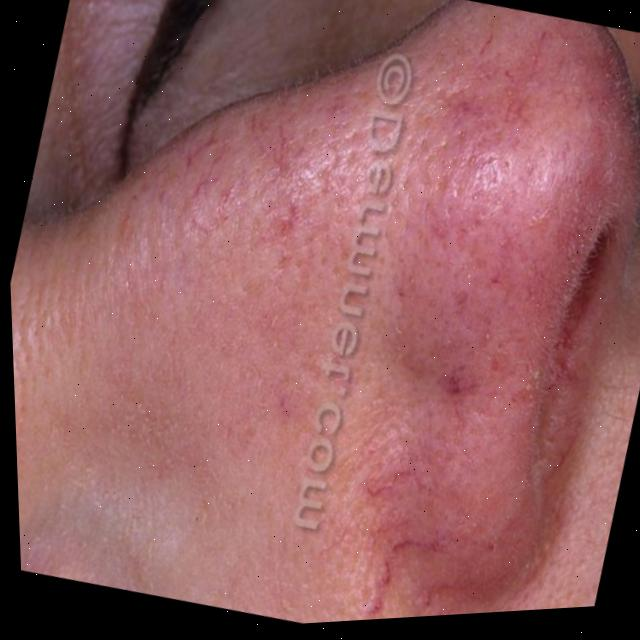Rosacea: (161, 59, 570, 596)
